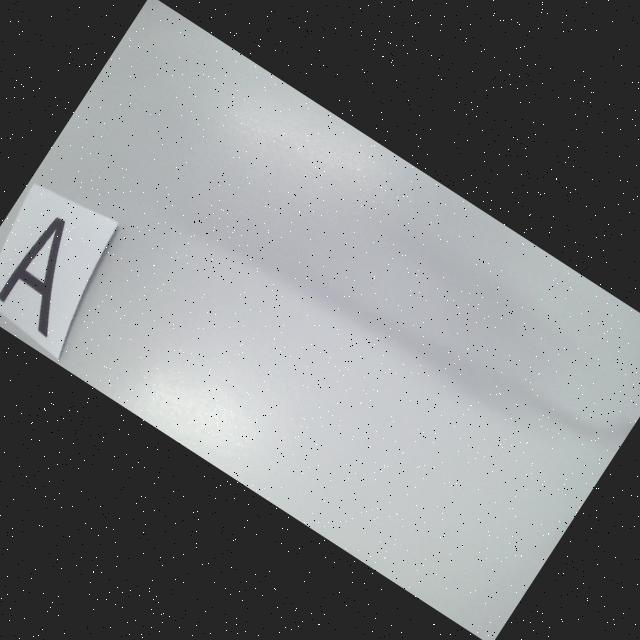FAKE: (0, 212, 105, 339)
